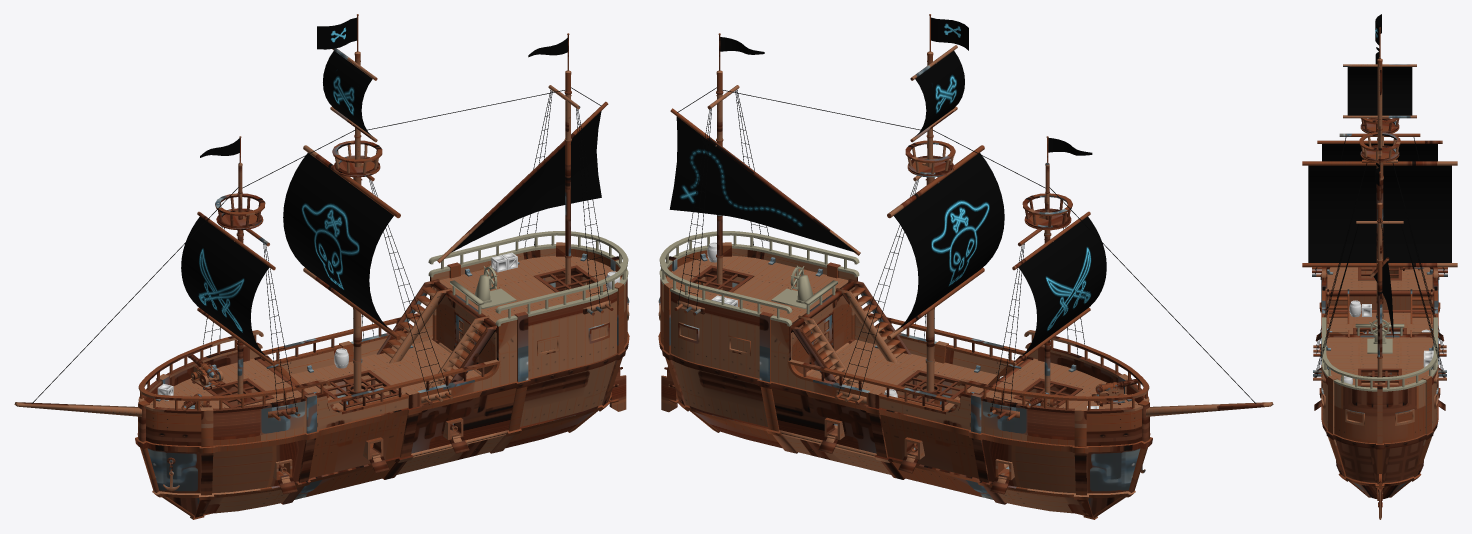
File: pirate ship.fbx
3 views of the same model, side by side, from view 1: azimuth 30°, elevation 25°; view 2: azimuth 150°, elevation 25°; view 3: azimuth 270°, elevation 25° (orthographic). The views are drawn at different scales.
Parts seen in each view (by area): view 1: StylShip_LoopholeCap1_left1; view 2: StylShip_LoopholeCap1_left1; view 3: StylShip_LoopholeCap1_left1.
Part boxes in pixels (x1,y1,x2,y2): StylShip_LoopholeCap1_left1: (14,14,629,519); StylShip_LoopholeCap1_left1: (658,14,1273,519); StylShip_LoopholeCap1_left1: (1302,14,1457,519).
Bounding box in the file's own units: 54.42 × 39.55 × 14.43.
8 materials, 3 textured.
